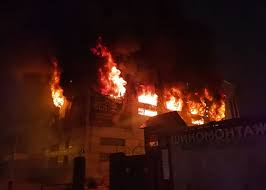fire: (91, 54, 240, 132), (34, 73, 69, 111)
